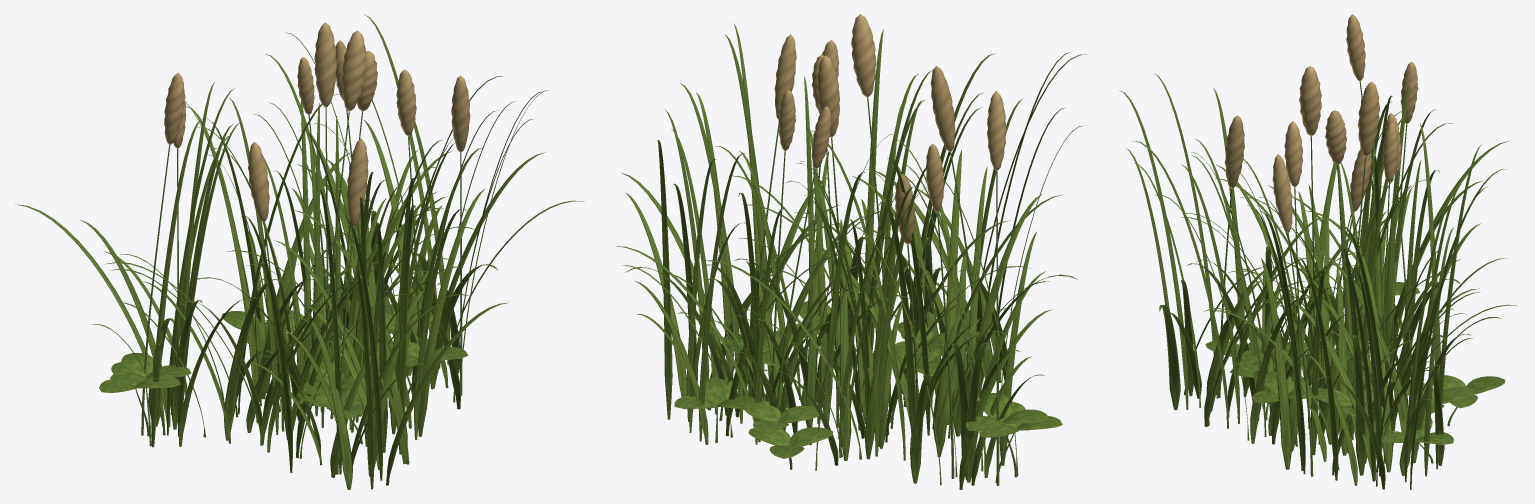
The model's file is n-meadowc.glb.
3 renders of one model, left to right at view 1: azimuth 30°, elevation 25°; view 2: azimuth 150°, elevation 25°; view 3: azimuth 270°, elevation 25°, orthographic. The views are drawn at different scales.
Parts seen in each view (by area): view 1: PatchFoliage, PatchSeedHeads, PatchStems; view 2: PatchFoliage, PatchSeedHeads, PatchStems; view 3: PatchFoliage, PatchSeedHeads, PatchStems.
Part boxes in pixels (x1,y1,x2,y2): PatchFoliage: (15, 14, 584, 489); PatchSeedHeads: (164, 22, 470, 227); PatchStems: (135, 108, 462, 474); PatchFoliage: (616, 24, 1086, 489); PatchSeedHeads: (774, 14, 1006, 244); PatchStems: (715, 97, 1017, 485); PatchFoliage: (1119, 74, 1517, 489); PatchSeedHeads: (1224, 14, 1418, 233); PatchStems: (1218, 81, 1457, 476).
Size of the model in its own units: 1.18 by 0.95 by 0.9533.
Materials: 3 (1 with a texture image).
